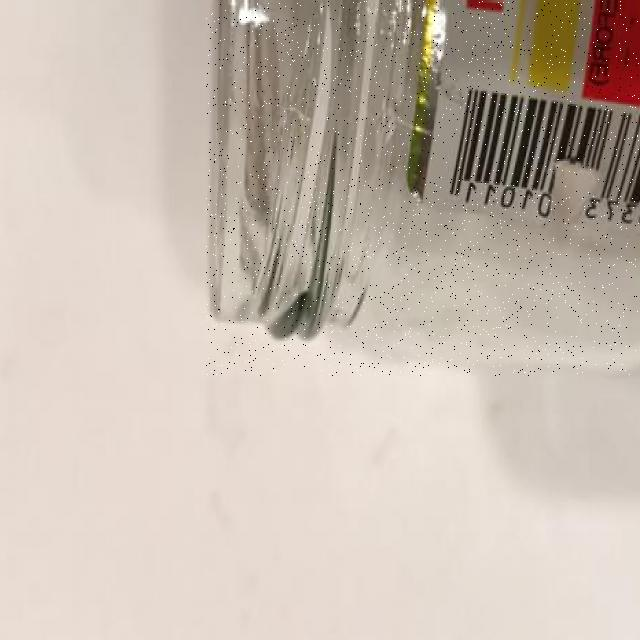glass: (206, 1, 640, 375)
